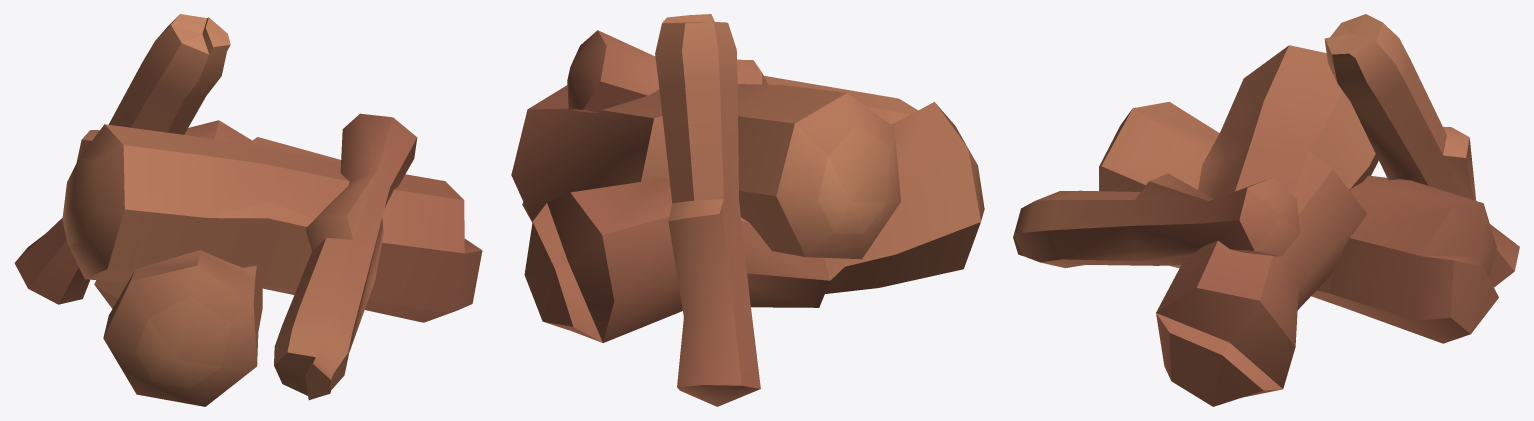
File: Campfire_Logs.obj
3 renders of one model, left to right at view 1: azimuth 30°, elevation 25°; view 2: azimuth 150°, elevation 25°; view 3: azimuth 270°, elevation 25°, orthographic. The views are drawn at different scales.
Visible parts, largest first — view 1: Campfire_Logs; view 2: Campfire_Logs; view 3: Campfire_Logs.
Boxes of the visible parts, left/top/right/bottom form: Campfire_Logs: left=14, top=14, right=482, bottom=406; Campfire_Logs: left=511, top=14, right=984, bottom=406; Campfire_Logs: left=1013, top=14, right=1519, bottom=406.
Size of the model in its own units: 0.801 by 0.5947 by 0.9017.
Materials: 1 (1 with a texture image).
